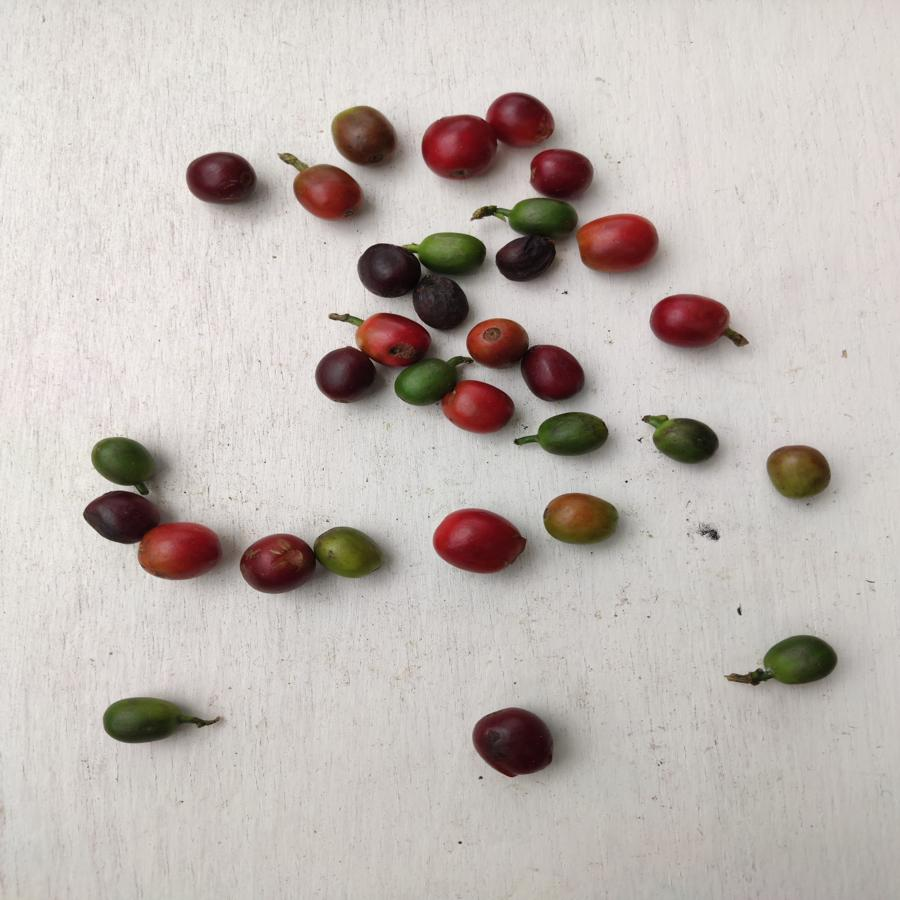Inmaduro: (103, 697, 184, 748), (531, 406, 611, 456), (650, 414, 721, 468), (767, 635, 837, 689), (93, 431, 156, 485), (504, 196, 579, 239), (416, 232, 487, 272), (394, 357, 450, 407)
Maduro: (431, 504, 529, 572), (649, 288, 733, 355), (422, 112, 498, 181), (578, 211, 659, 275), (137, 522, 221, 580), (446, 378, 517, 438), (489, 93, 559, 150), (358, 312, 428, 365), (467, 314, 528, 367)
Pinton: (760, 442, 835, 505), (538, 489, 622, 542), (293, 164, 372, 220), (319, 525, 389, 579)
Sobremaduro: (469, 708, 557, 777), (238, 534, 317, 594), (328, 104, 398, 168), (521, 344, 586, 404), (355, 243, 420, 301), (188, 152, 259, 203), (414, 273, 469, 330), (313, 346, 365, 406), (497, 237, 557, 281)
